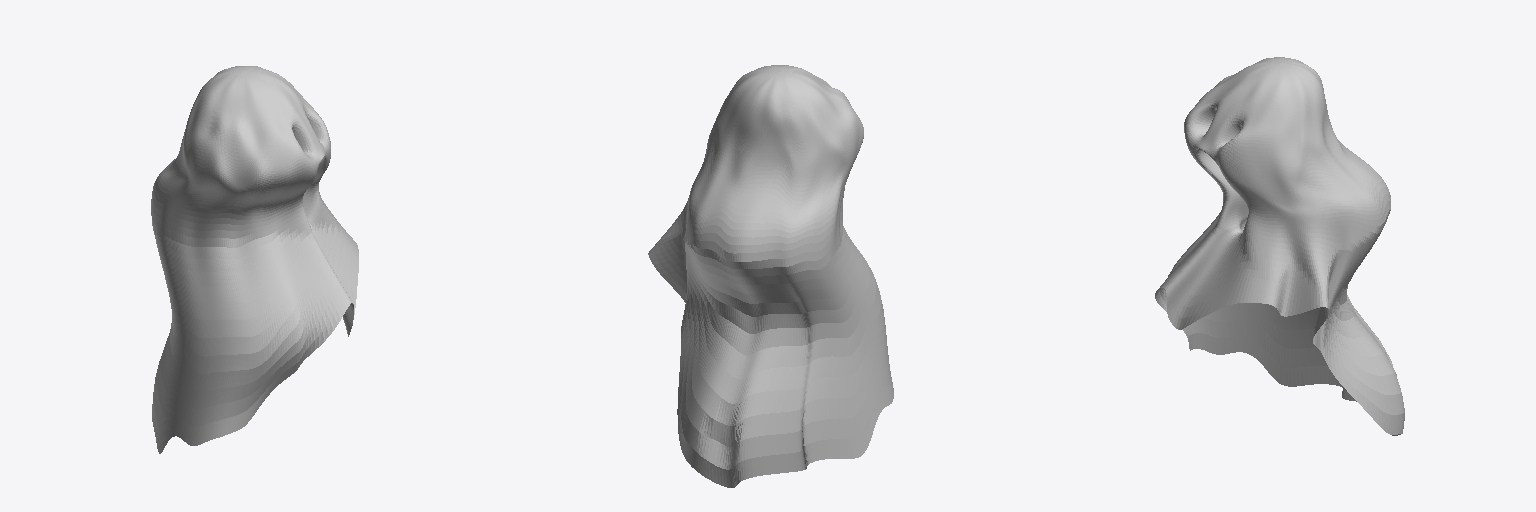
File: ghost_000021.obj
3 renders of one model, left to right at view 1: azimuth 30°, elevation 25°; view 2: azimuth 150°, elevation 25°; view 3: azimuth 270°, elevation 25°, orthographic.
Parts seen in each view (by area): view 1: 球体; view 2: 球体; view 3: 球体.
Part boxes in pixels (bbox=[...]): 球体: bbox=[151, 66, 358, 453]; 球体: bbox=[648, 65, 893, 487]; 球体: bbox=[1155, 57, 1404, 435].
Bounding box in the file's own units: 8.62 × 15.89 × 9.64.